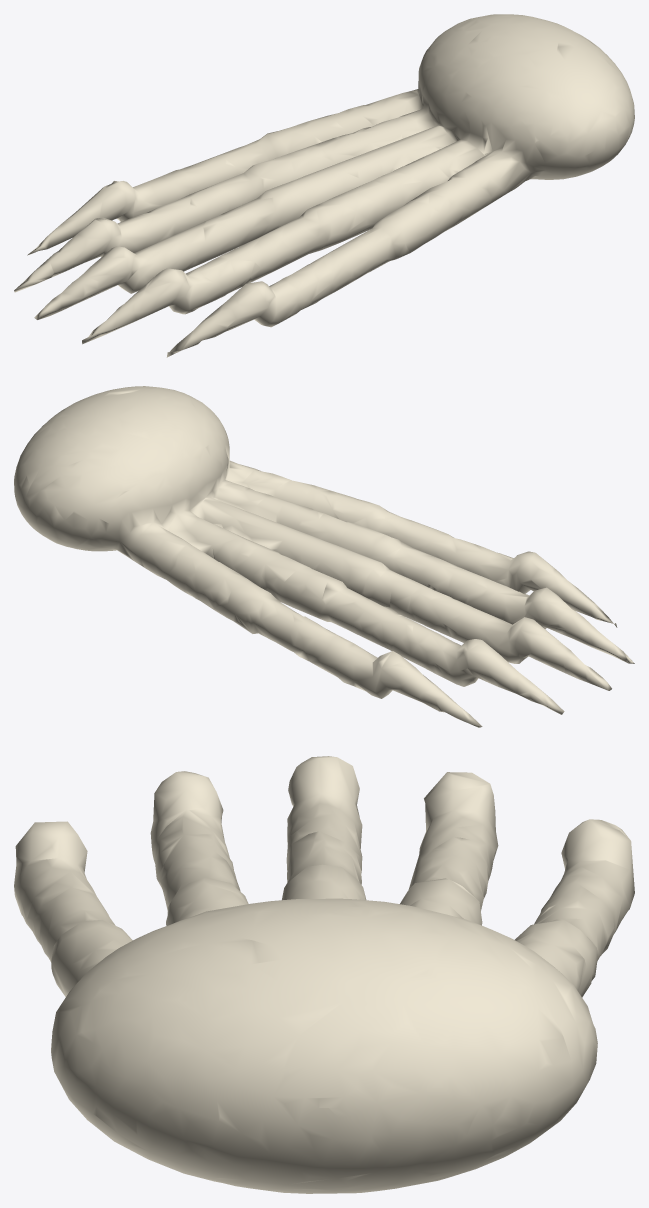
File: forepaw_r.glb
3 renders of one model, top to bottom at view 1: azimuth 30°, elevation 25°; view 2: azimuth 150°, elevation 25°; view 3: azimuth 270°, elevation 25°, orthographic. The views are drawn at different scales.
Parts seen in each view (by area): view 1: geometry_0; view 2: geometry_0; view 3: geometry_0.
Boxes of the visible parts, box(x1,y1,x2,y2) form: geometry_0: box(14, 14, 634, 357); geometry_0: box(14, 386, 634, 727); geometry_0: box(14, 756, 634, 1193).
Bounding box in the file's own units: 0.4812 × 0.1347 × 0.2274.
